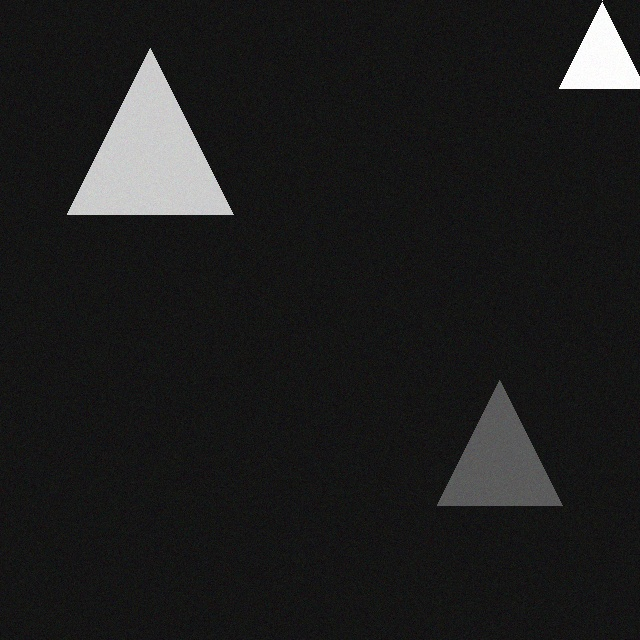triangle: (60, 47, 226, 213), (430, 379, 555, 504), (552, 1, 638, 87)
